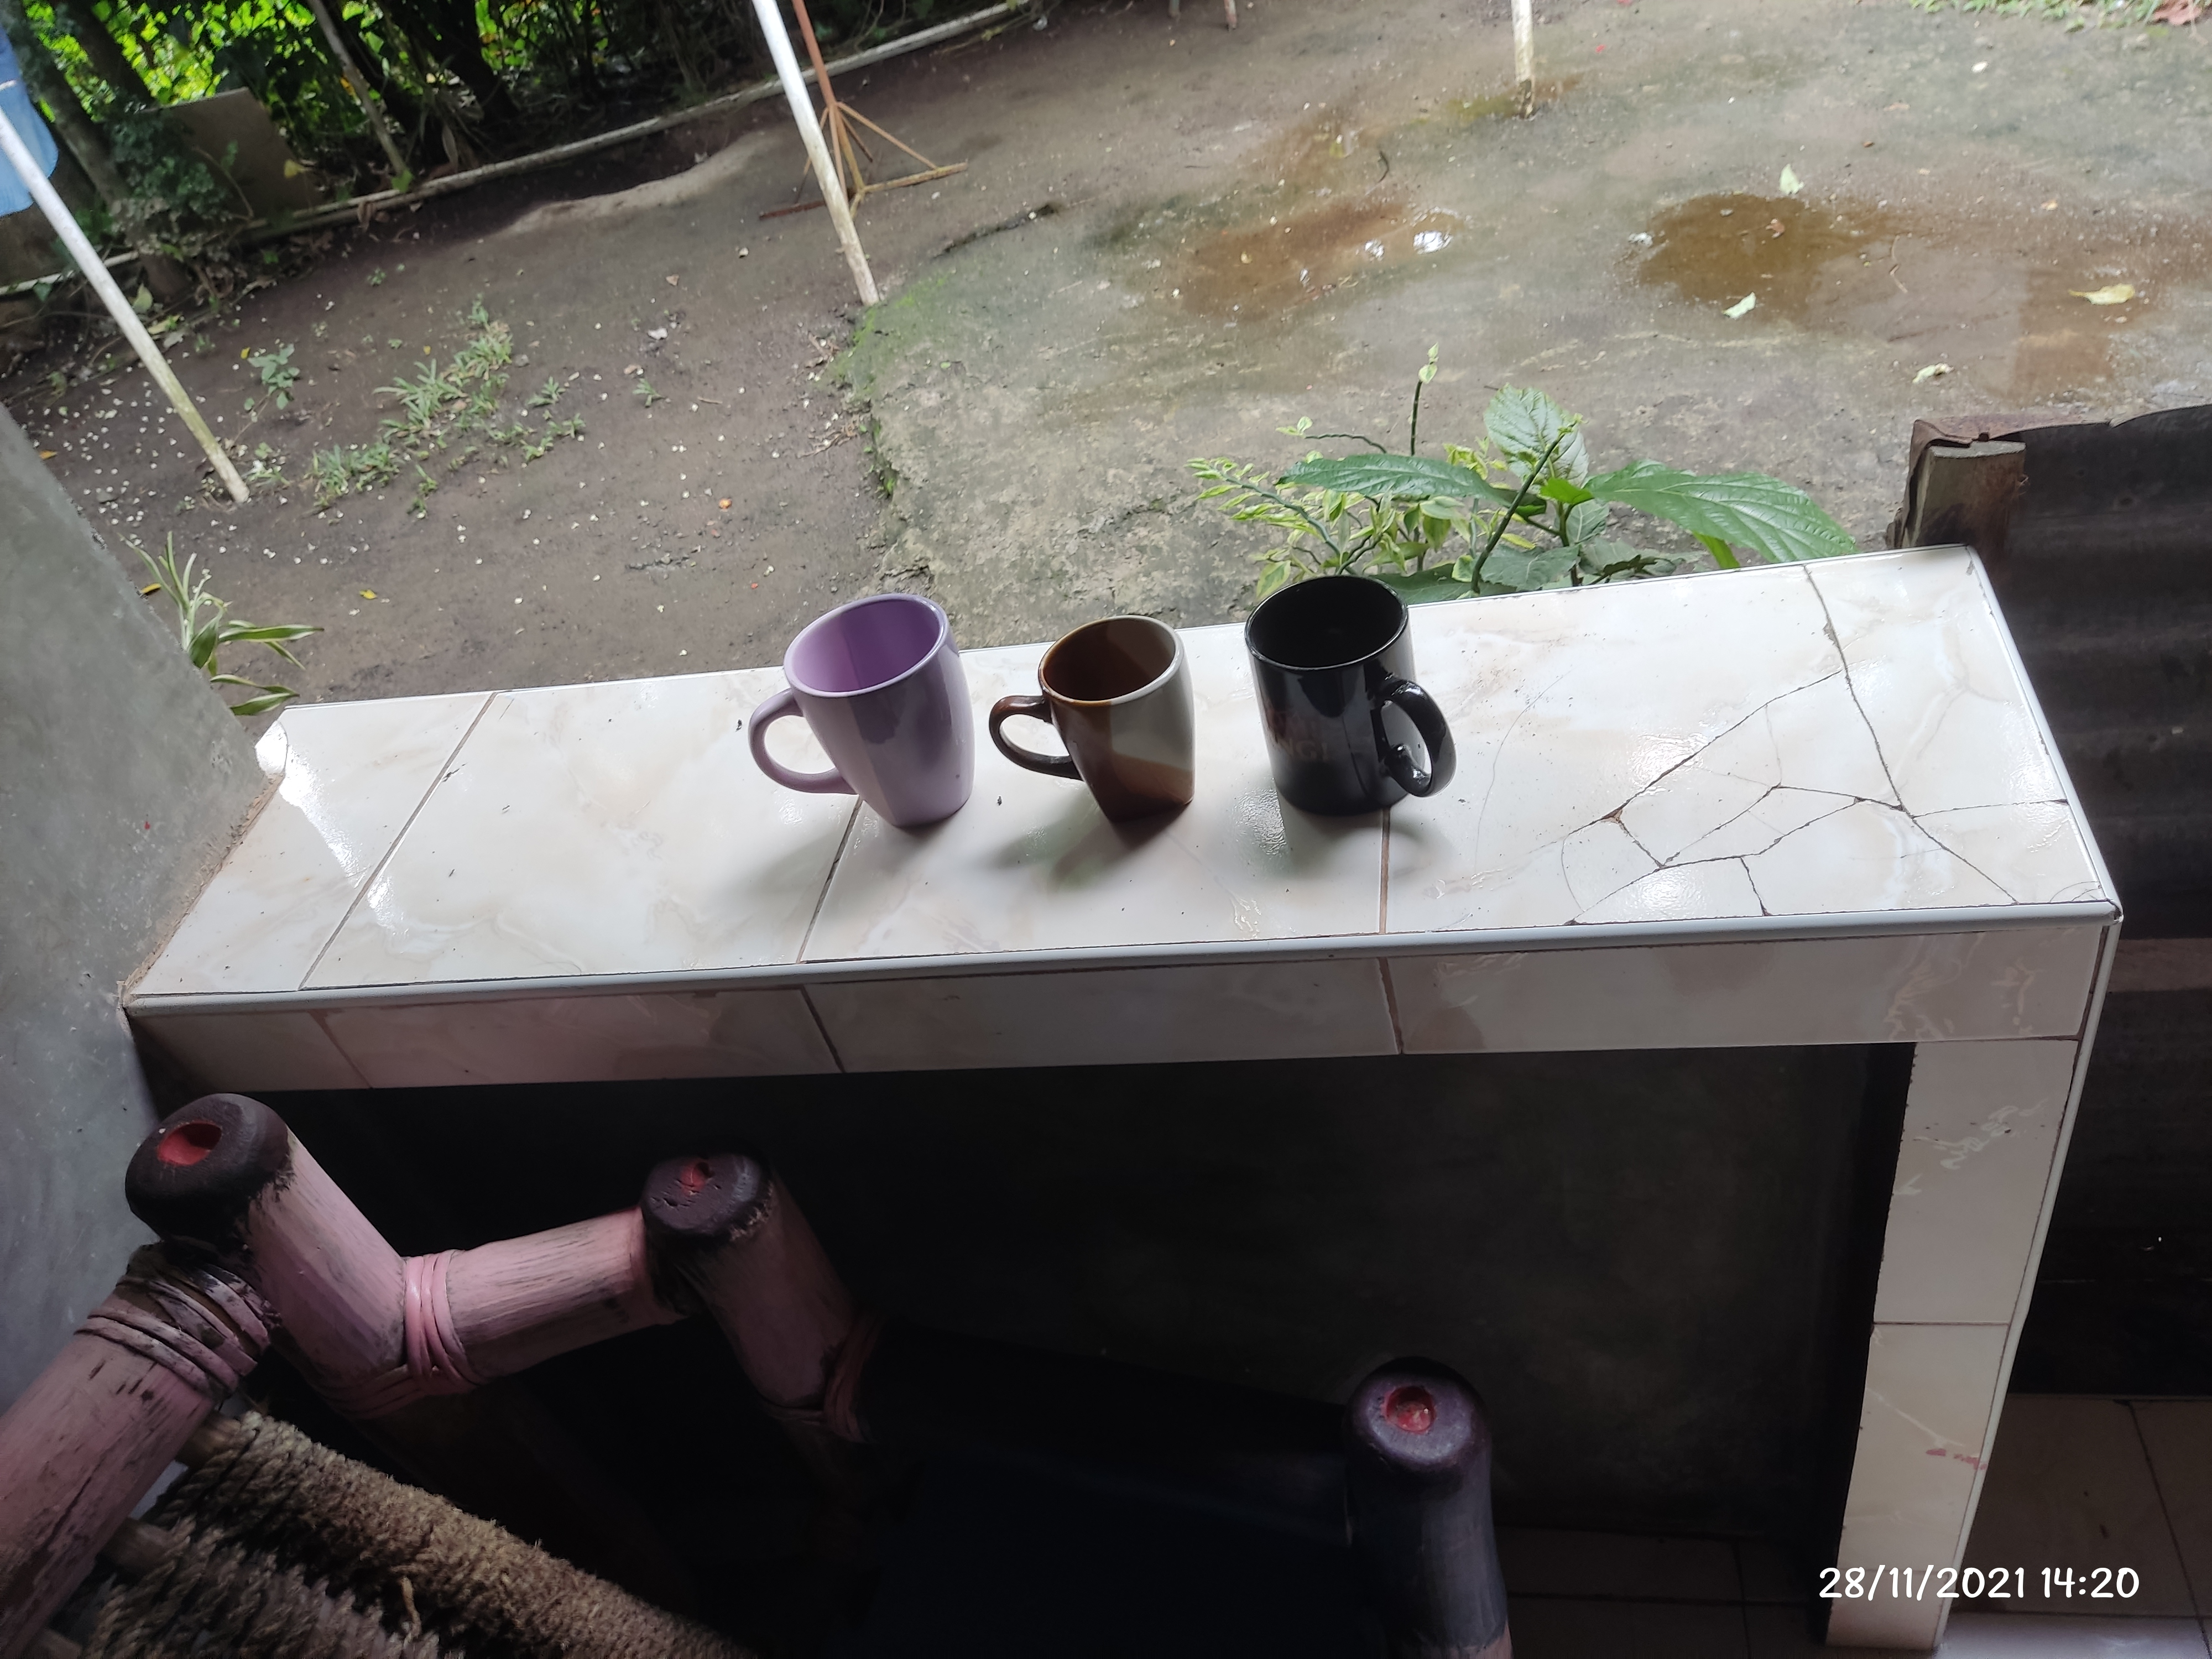mug: (754, 598, 979, 824), (1247, 577, 1458, 817), (996, 617, 1202, 819)
